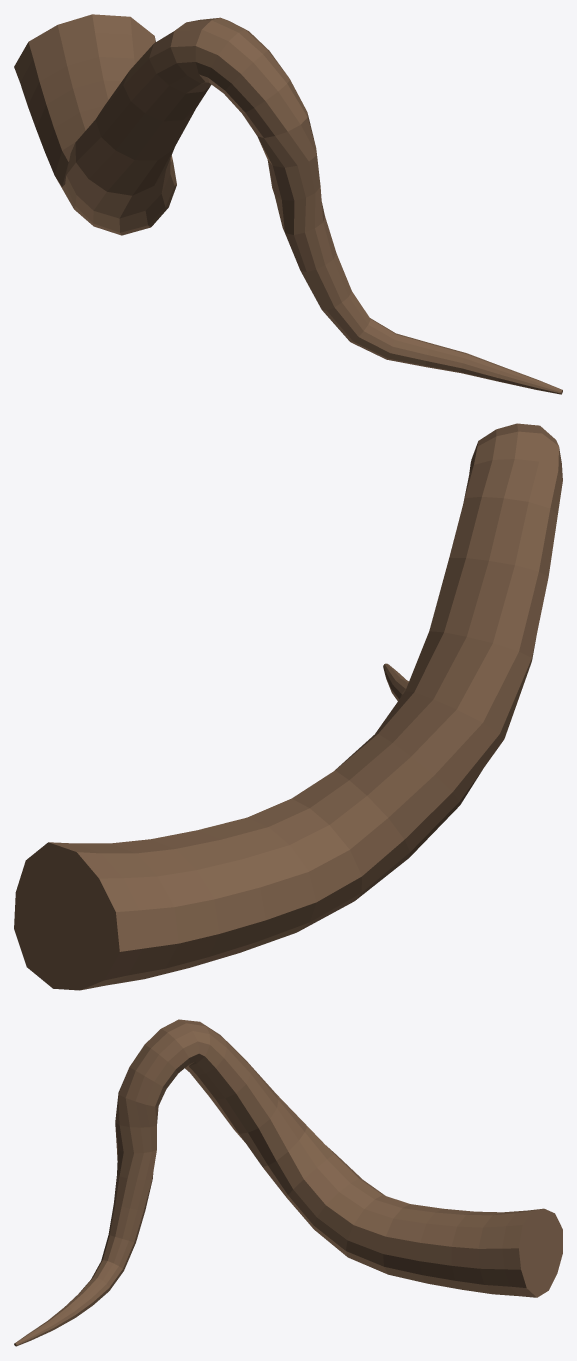
Rendered from Root_Large_A_Detail_v1.glb.
3 views of the same model, one above another, from view 1: azimuth 30°, elevation 25°; view 2: azimuth 150°, elevation 25°; view 3: azimuth 270°, elevation 25° (orthographic). The views are drawn at different scales.
Parts seen in each view (by area): view 1: Root_Large_A_Detail_v1; view 2: Root_Large_A_Detail_v1; view 3: Root_Large_A_Detail_v1.
Boxes of the visible parts, x1,y1,x2,y2 form: Root_Large_A_Detail_v1: [14, 14, 562, 394]; Root_Large_A_Detail_v1: [14, 423, 562, 990]; Root_Large_A_Detail_v1: [14, 1019, 562, 1346].
Size of the model in its own units: 5.35 by 5.97 by 12.22.
